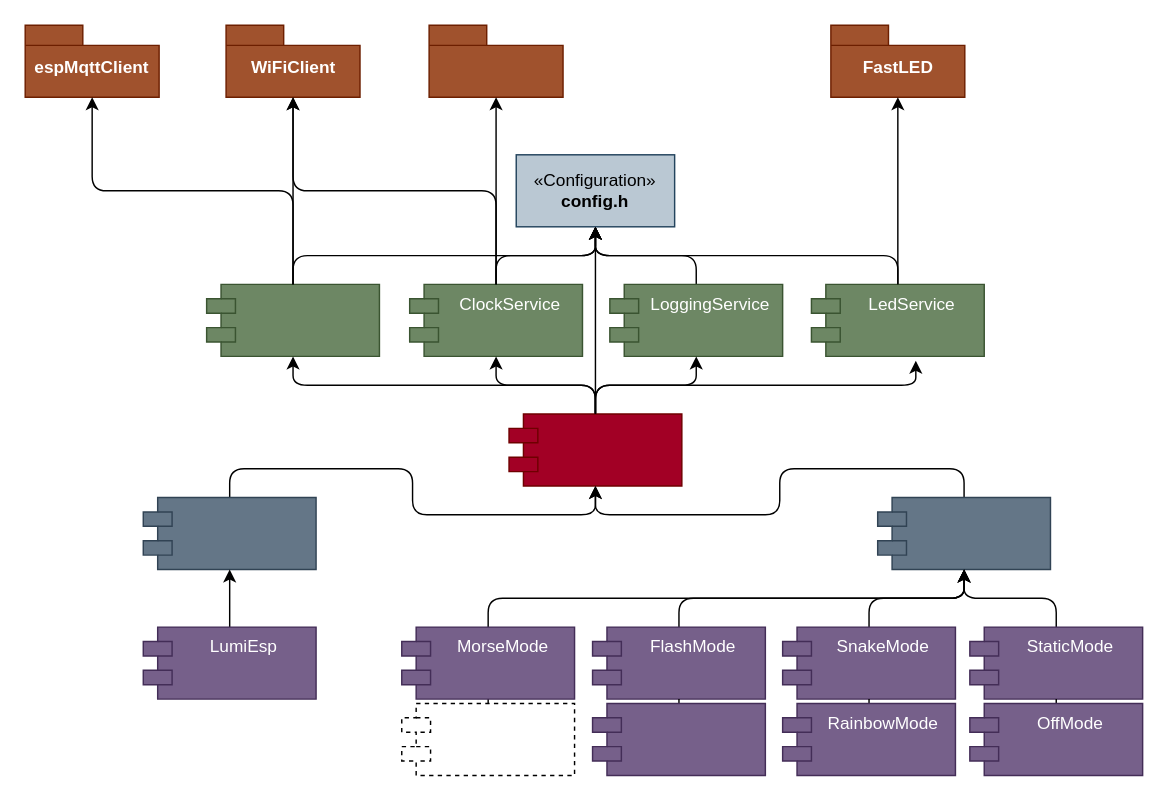
Some shapes in this 1168 by 801 pixel diagram are drawn without their labels. Each missing label, with the centre of its shape:
"AbstractApp" belongs at point (229, 533).
"AbstractMode" belongs at point (963, 533).
"ControllerService" belongs at point (595, 449).
"CustomMode *as described in the section below" belongs at point (487, 738).
"MqttService" belongs at point (292, 319).
"NTPClient" belongs at point (495, 60).
"UnicornMode" belongs at point (678, 738).
